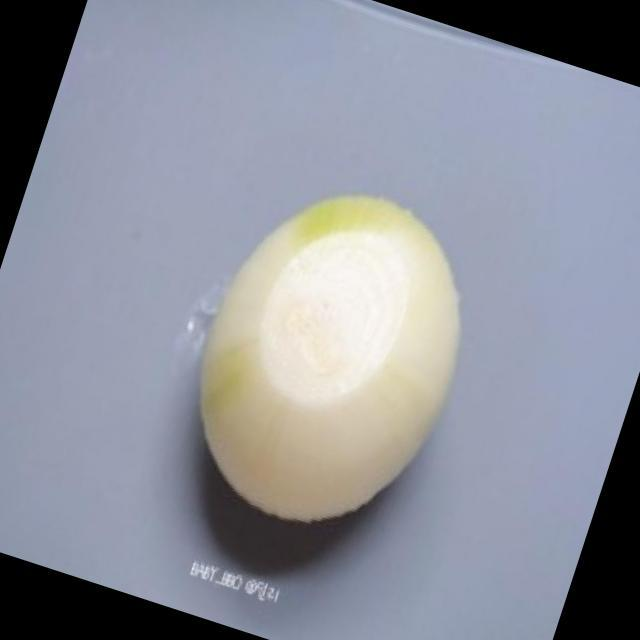Onion: (198, 189, 463, 526)
